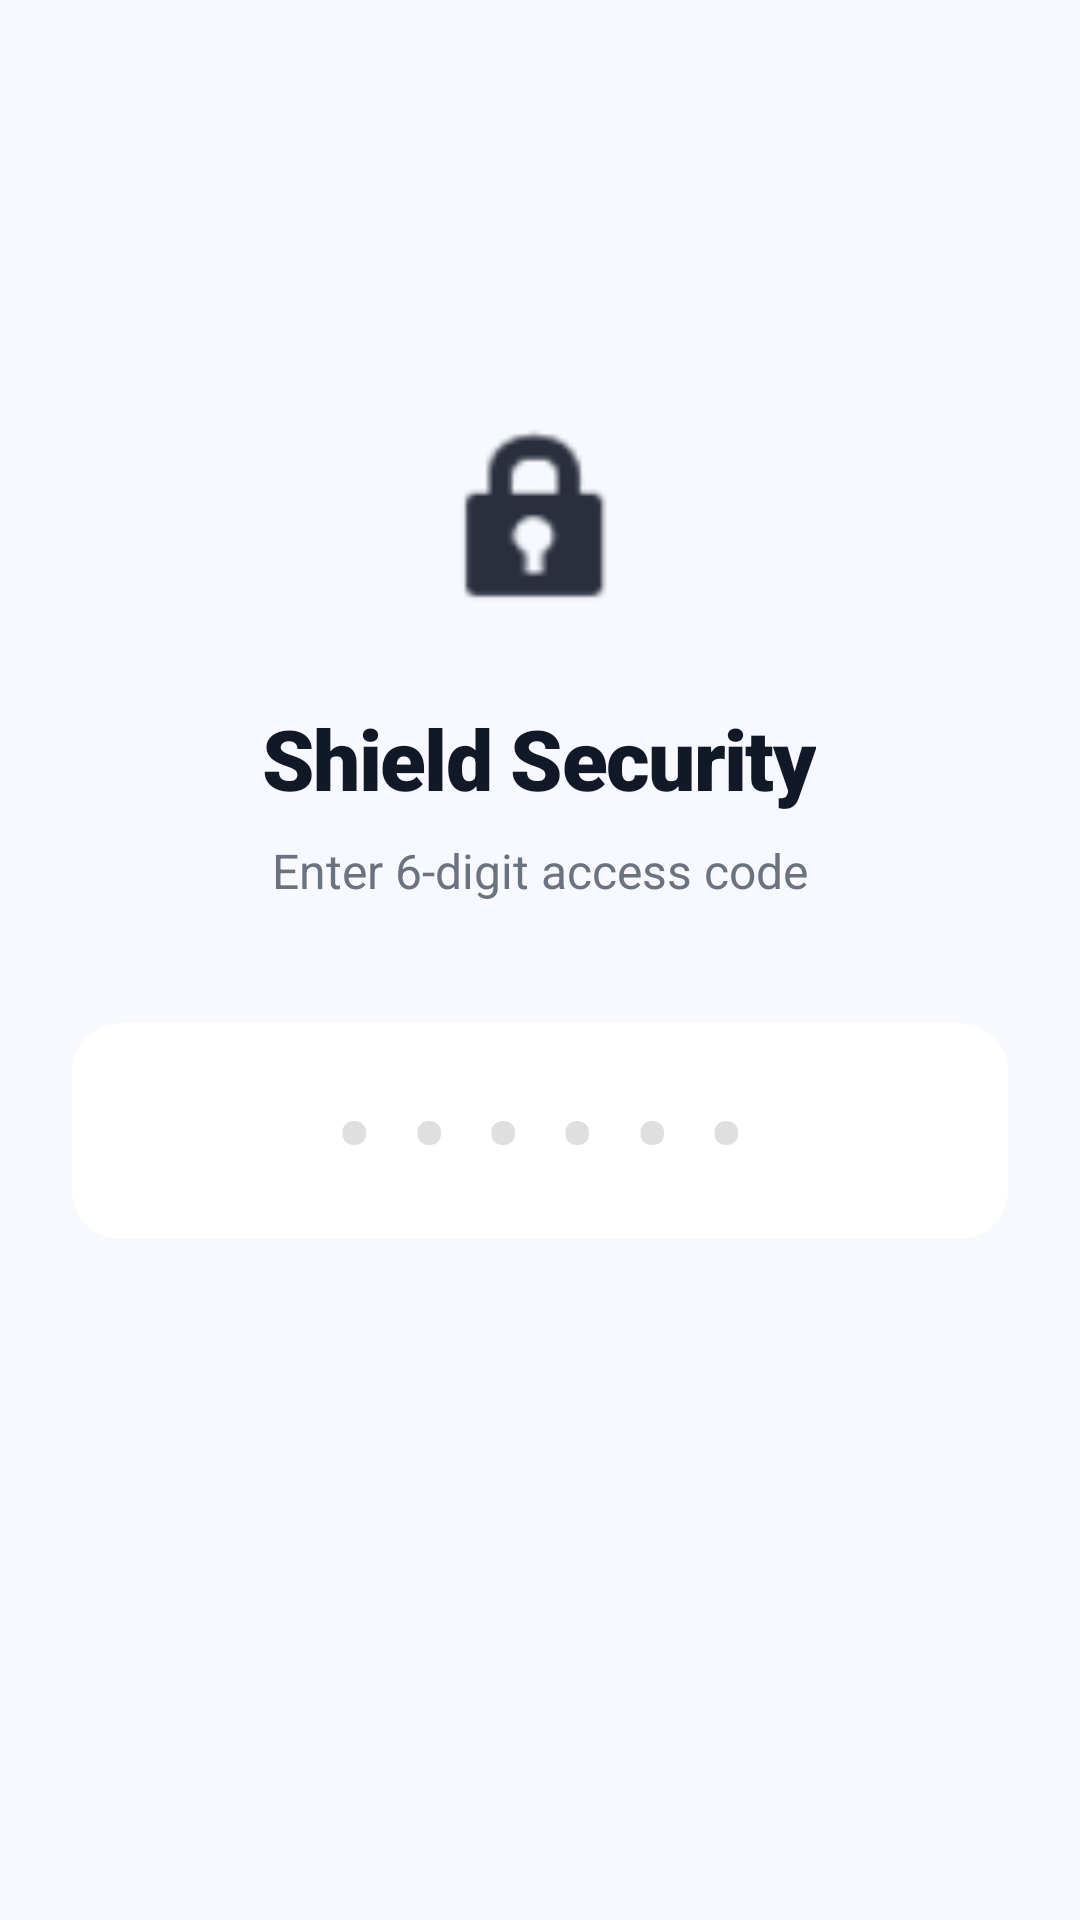

Locate icon controls on the screen. Image size 1080 × 1920, boxes as region(x1, y1, x2, y2).
lock idle: region(464, 432, 606, 598)
